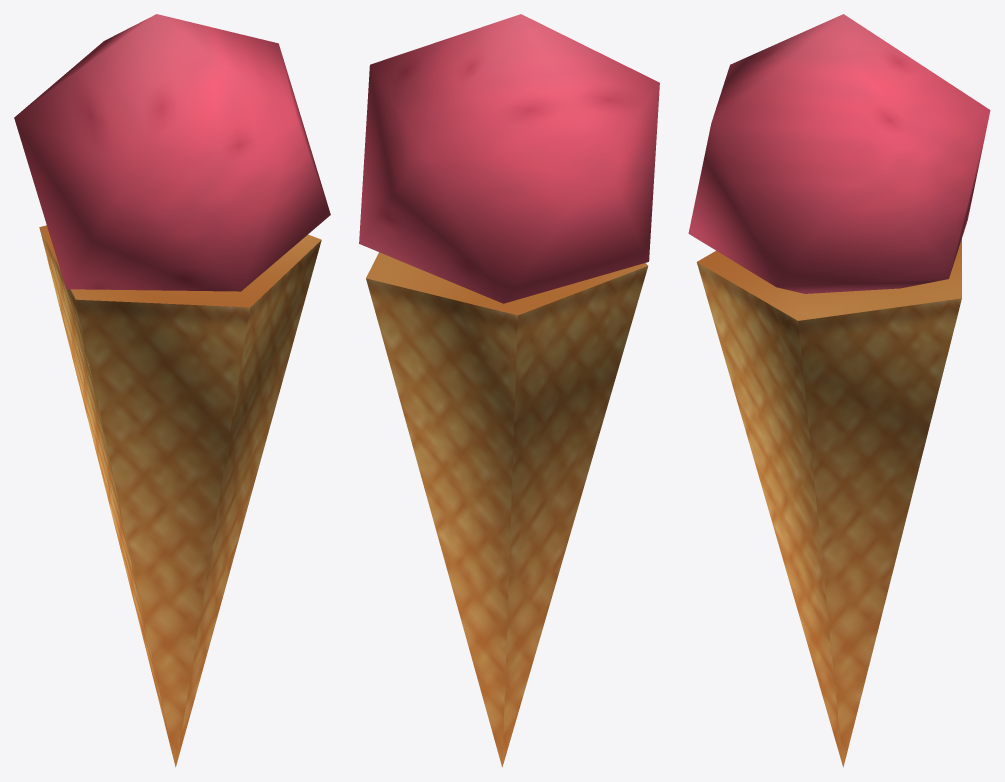
The model's file is IceCream_10.FBX.
The picture shows the model from 3 angles, left to right: view 1: azimuth 30°, elevation 25°; view 2: azimuth 150°, elevation 25°; view 3: azimuth 270°, elevation 25°; orthographic projection.
Visible parts, largest first — view 1: IceCream_10; view 2: IceCream_10; view 3: IceCream_10.
Boxes of the visible parts, box(x1,y1,x2,y2) form: IceCream_10: box(14, 14, 330, 767); IceCream_10: box(359, 14, 659, 767); IceCream_10: box(688, 14, 990, 767).
Size of the model in its own units: 0.1554 by 0.1626 by 0.4426.
